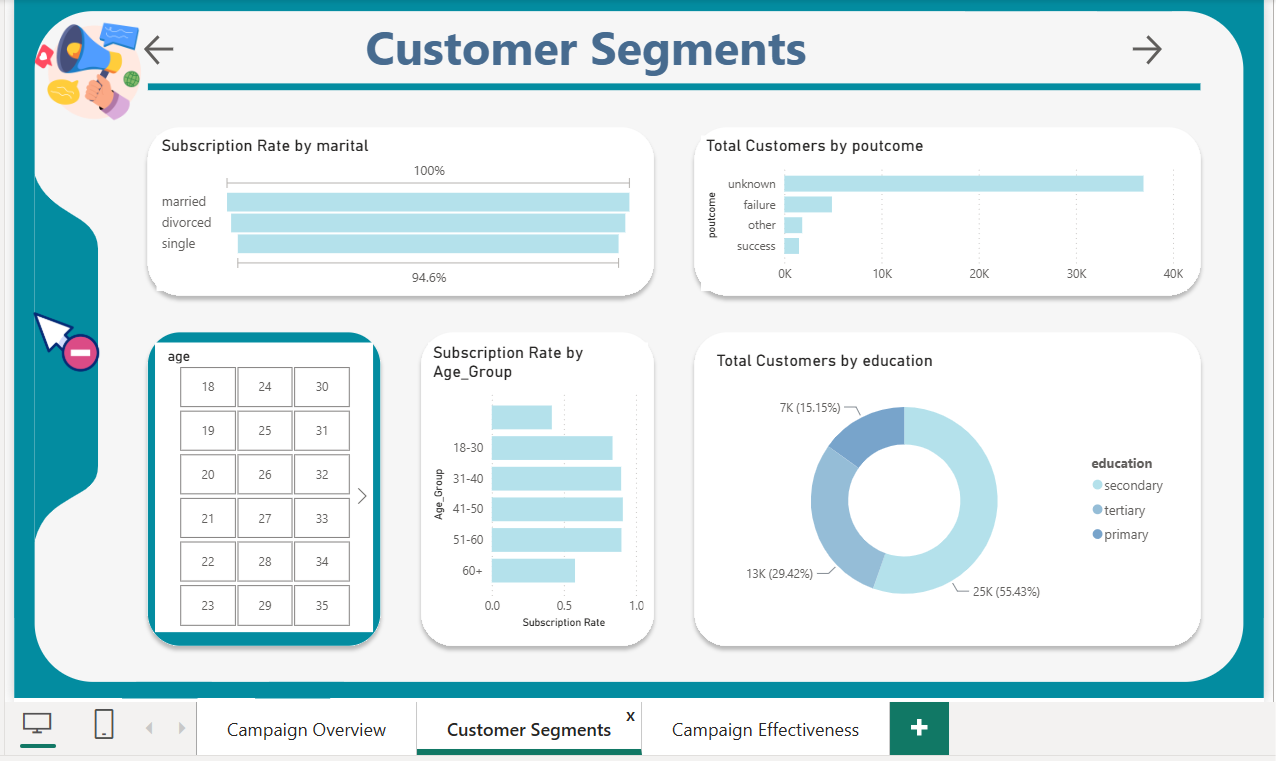

This screenshot's page, from the dashboard's own definition file:
{"tool":"powerbi","page":{"name":"Customer Segments","canvas":[1280,720],"ordinal":1},"visuals":[{"type":"textbox","box":[355,10,483.3,83.3],"z":0},{"type":"donutChart","fields":{"Category":["bank_marketing_cleaned.education"],"Y":["bank_marketing_cleaned.Total Customers"]},"box":[714.9,359.5,476.2,288.2],"z":1000},{"type":"barChart","fields":{"Category":["bank_marketing_cleaned.poutcome"],"Y":["bank_marketing_cleaned.Total Customers"]},"box":[703.9,140,498.1,159.2],"z":2000},{"type":"barChart","fields":{"Category":["bank_marketing_cleaned.Age_Group"],"Y":["bank_marketing_cleaned.Subscription Rate"]},"box":[423.5,351.1,225.6,296.8],"z":3000},{"type":"funnel","fields":{"Category":["bank_marketing_cleaned.marital"],"Y":["bank_marketing_cleaned.Subscription Rate"]},"box":[145.5,140,494,159.2],"z":4000},{"type":"actionButton","box":[128.3,31.7,100,40],"z":5000},{"type":"actionButton","box":[1140.3,32.9,100.2,39.8],"z":6000},{"type":"image","box":[0,16.7,151.1,114.4],"z":7000},{"type":"image","box":[20,284.3,67.1,134.3],"z":8000},{"type":"slicer","fields":{"Values":["bank_marketing_cleaned.age"]},"box":[144.8,351.1,223.2,296.8],"z":9000}]}

Visuals, with their boxes on the page's 1280x720 design canvas (x1, y1, x2, y2). These are canvas units, not pixel positions in the 1276x761 screenshot, which may show the page scaled, cropped or inside an application window:
textbox: x1=355, y1=10, x2=838, y2=93
donutChart - bank_marketing_cleaned.education x bank_marketing_cleaned.Total Customers: x1=715, y1=360, x2=1191, y2=648
barChart - bank_marketing_cleaned.poutcome x bank_marketing_cleaned.Total Customers: x1=704, y1=140, x2=1202, y2=299
barChart - bank_marketing_cleaned.Age_Group x bank_marketing_cleaned.Subscription Rate: x1=424, y1=351, x2=649, y2=648
funnel - bank_marketing_cleaned.marital x bank_marketing_cleaned.Subscription Rate: x1=146, y1=140, x2=640, y2=299
actionButton: x1=128, y1=32, x2=228, y2=72
actionButton: x1=1140, y1=33, x2=1240, y2=73
image: x1=0, y1=17, x2=151, y2=131
image: x1=20, y1=284, x2=87, y2=419
slicer - bank_marketing_cleaned.age: x1=145, y1=351, x2=368, y2=648
